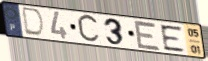3: (103, 17, 128, 47)
4: (49, 10, 69, 42)
C: (76, 13, 102, 45)
D: (22, 6, 47, 38)
E: (132, 19, 163, 52), (158, 24, 187, 53)
